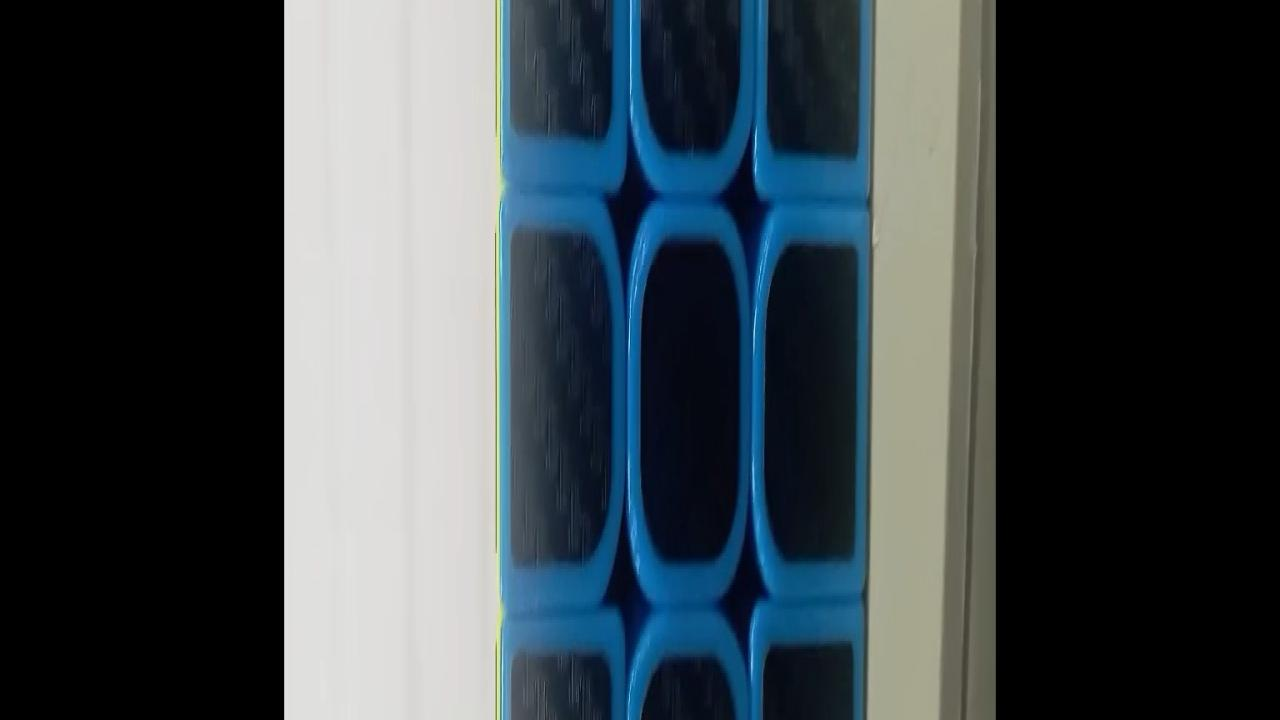Cube: (493, 0, 875, 720)
